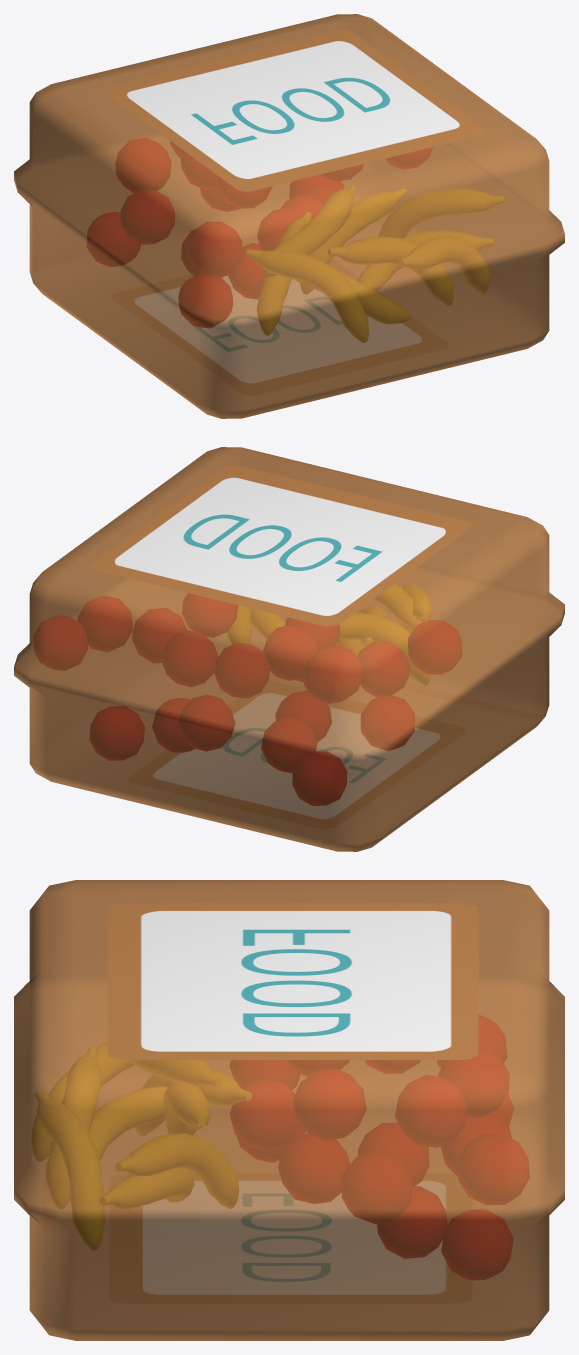
Rendered from yemek.glb.
3 renders of one model, top to bottom at view 1: azimuth 30°, elevation 25°; view 2: azimuth 150°, elevation 25°; view 3: azimuth 270°, elevation 25°, orthographic. The views are drawn at different scales.
Parts seen in each view (by area): view 1: Cube, BézierCurve.010, BézierCurve.005, BézierCurve.007, BézierCurve.006, Icosphere.022, Icosphere.002, Icosphere.033, Icosphere.039, BézierCurve.008, BézierCurve.004, Icosphere.023 (+10 smaller); view 2: Cube, Icosphere.025, Icosphere.034, Icosphere.038, Icosphere.023, Icosphere.041, Icosphere.002, Icosphere.004, Icosphere.033, Icosphere.001, Icosphere.022, Icosphere.031 (+13 smaller); view 3: Cube, BézierCurve.006, BézierCurve.005, Icosphere.004, Icosphere.009, Icosphere.001, Icosphere.028, Icosphere.025, Icosphere.035, Icosphere.021, Icosphere.036, BézierCurve.007 (+12 smaller).
Boxes of the visible parts, x1,y1,x2,y2 form: Cube: [14, 14, 564, 418]; BézierCurve.010: [246, 249, 368, 342]; BézierCurve.005: [379, 188, 504, 238]; BézierCurve.007: [328, 237, 453, 305]; BézierCurve.006: [399, 236, 489, 293]; Icosphere.022: [188, 222, 241, 276]; Icosphere.002: [120, 190, 174, 244]; Icosphere.033: [178, 273, 232, 327]; Icosphere.039: [116, 139, 171, 192]; BézierCurve.008: [264, 185, 355, 276]; BézierCurve.004: [300, 188, 406, 294]; Icosphere.023: [87, 212, 140, 266]; Cube: [14, 447, 564, 851]; Icosphere.025: [89, 706, 144, 760]; Icosphere.034: [178, 695, 234, 751]; Icosphere.038: [215, 643, 269, 698]; Icosphere.023: [292, 751, 346, 805]; Icosphere.041: [161, 631, 217, 686]; Icosphere.002: [408, 620, 461, 674]; Icosphere.004: [33, 615, 87, 670]; Icosphere.033: [361, 696, 414, 750]; Icosphere.001: [77, 596, 132, 651]; Icosphere.022: [357, 641, 408, 696]; Icosphere.031: [261, 717, 317, 772]; Cube: [14, 880, 564, 1340]; BézierCurve.006: [35, 1091, 104, 1250]; BézierCurve.005: [115, 1133, 238, 1208]; Icosphere.004: [457, 1134, 529, 1204]; Icosphere.009: [293, 1068, 365, 1140]; Icosphere.001: [342, 1151, 411, 1223]; Icosphere.028: [395, 1075, 467, 1147]; Icosphere.025: [441, 1209, 513, 1279]; Icosphere.035: [278, 1134, 349, 1203]; Icosphere.021: [230, 1079, 299, 1151]; Icosphere.036: [377, 1186, 447, 1258]; BézierCurve.007: [46, 1047, 100, 1208].
Bounding box in the file's own units: 1.89 × 1.01 × 1.89.
Materials: 3 (1 with a texture image).
